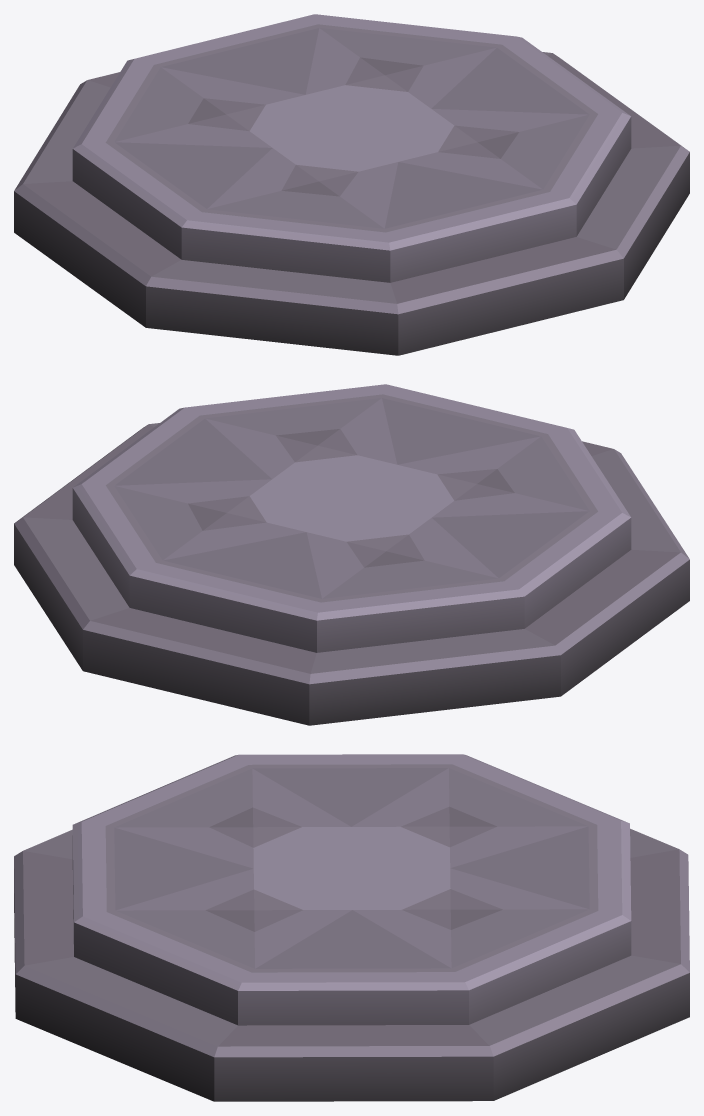
The model's file is platform.glb.
3 views of the same model, one above another, from view 1: azimuth 30°, elevation 25°; view 2: azimuth 150°, elevation 25°; view 3: azimuth 270°, elevation 25° (orthographic). The views are drawn at different scales.
Visible parts, largest first — view 1: platform; view 2: platform; view 3: platform.
Part boxes in pixels (x1,y1,x2,y2): platform: (14,14,689,355); platform: (14,384,689,725); platform: (14,754,689,1101).
Size of the model in its own units: 6.02 by 0.8894 by 6.02.
Materials: 1 (1 with a texture image).
